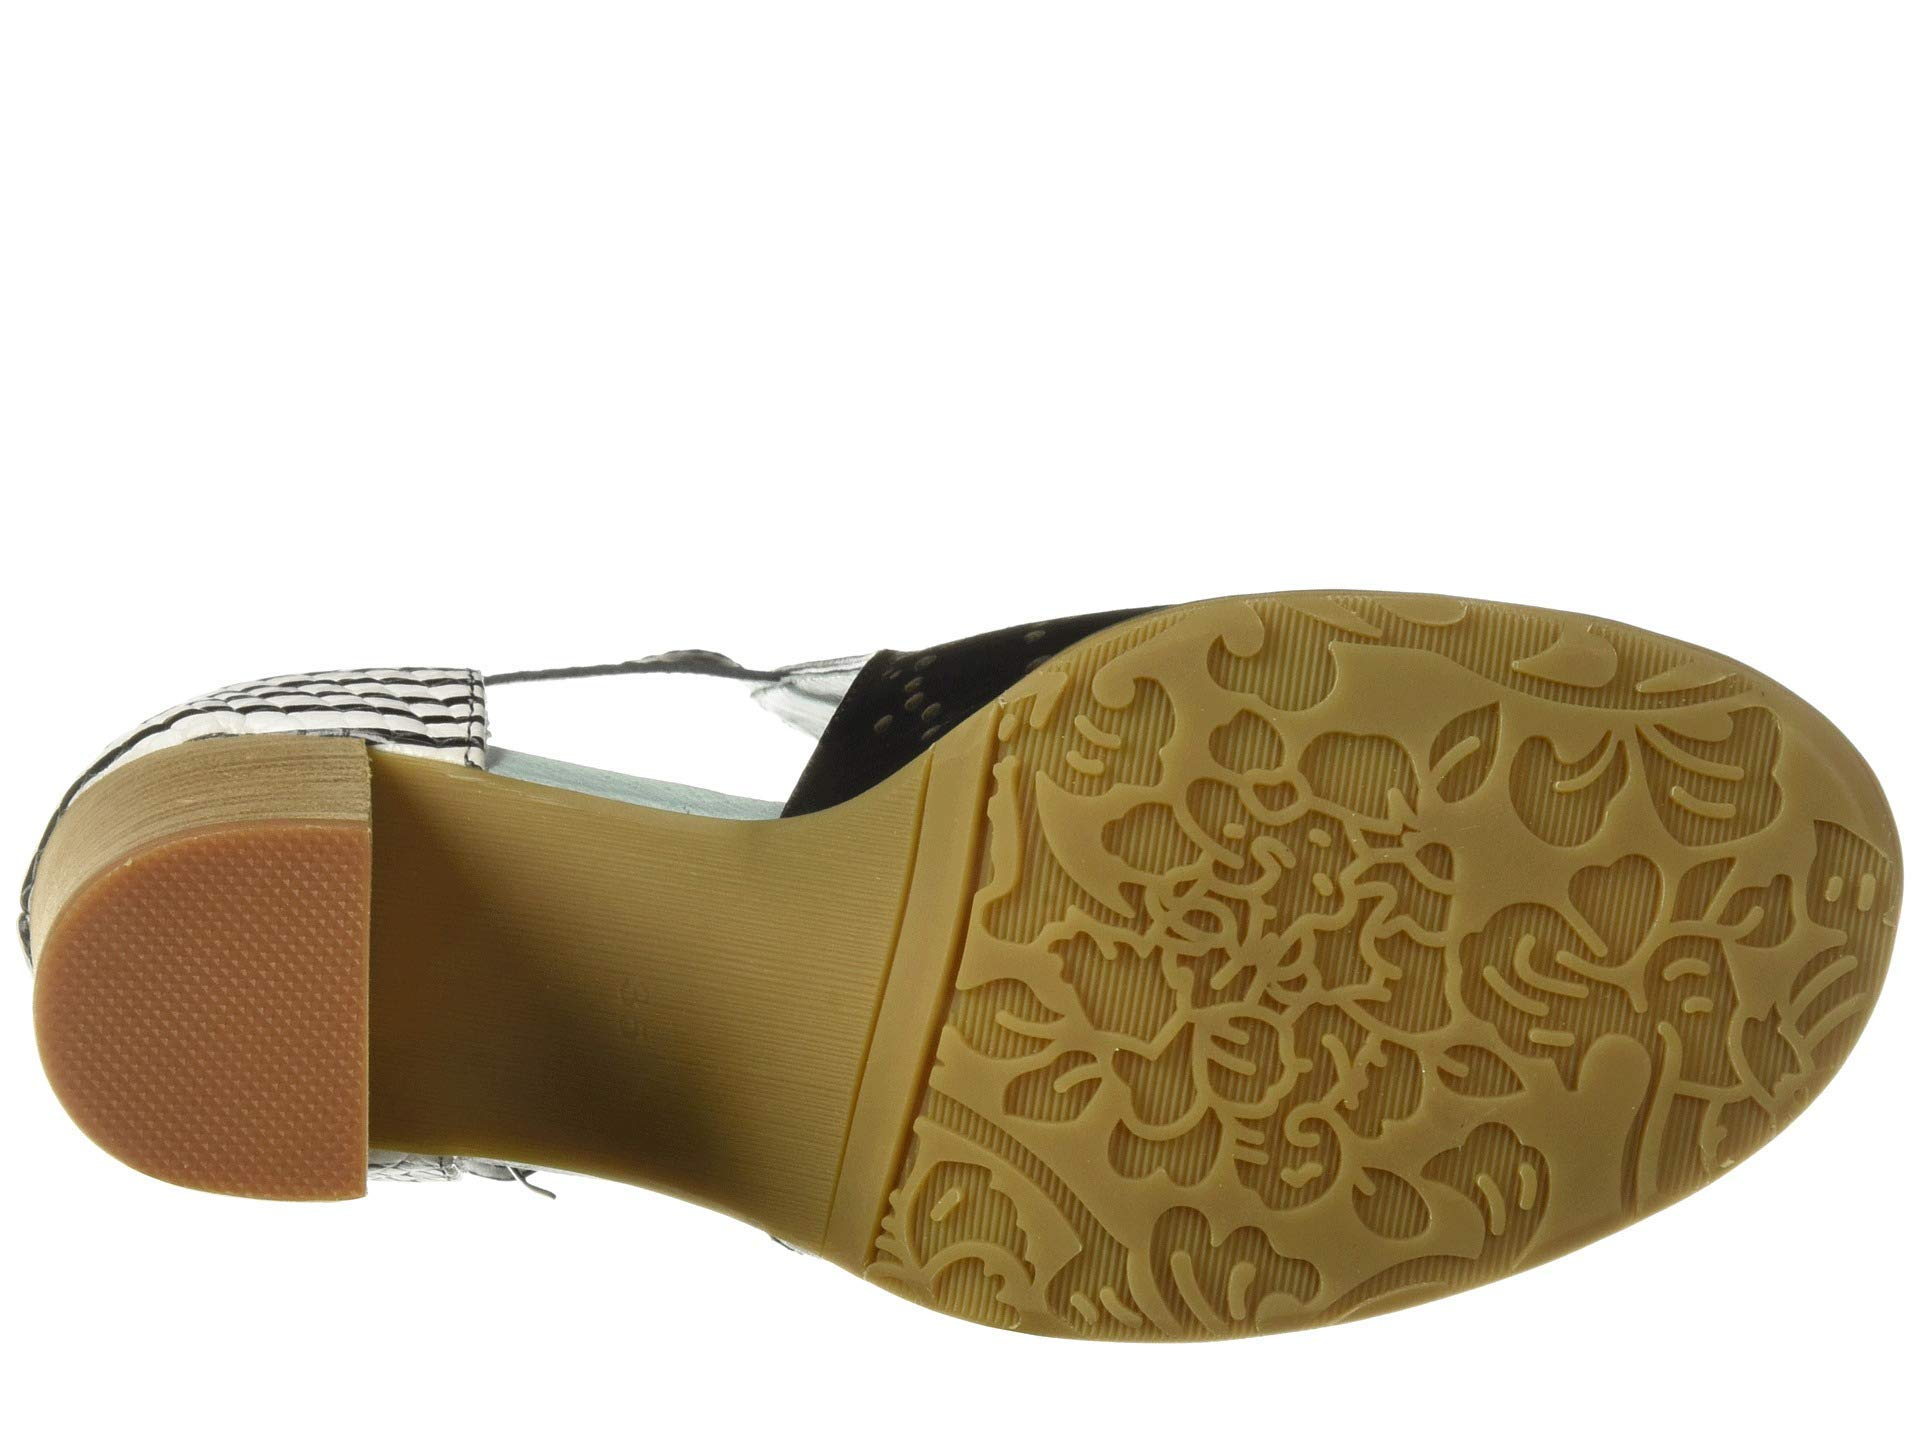line: (1114, 737, 1577, 1224)
other: (1114, 737, 1577, 1224)
